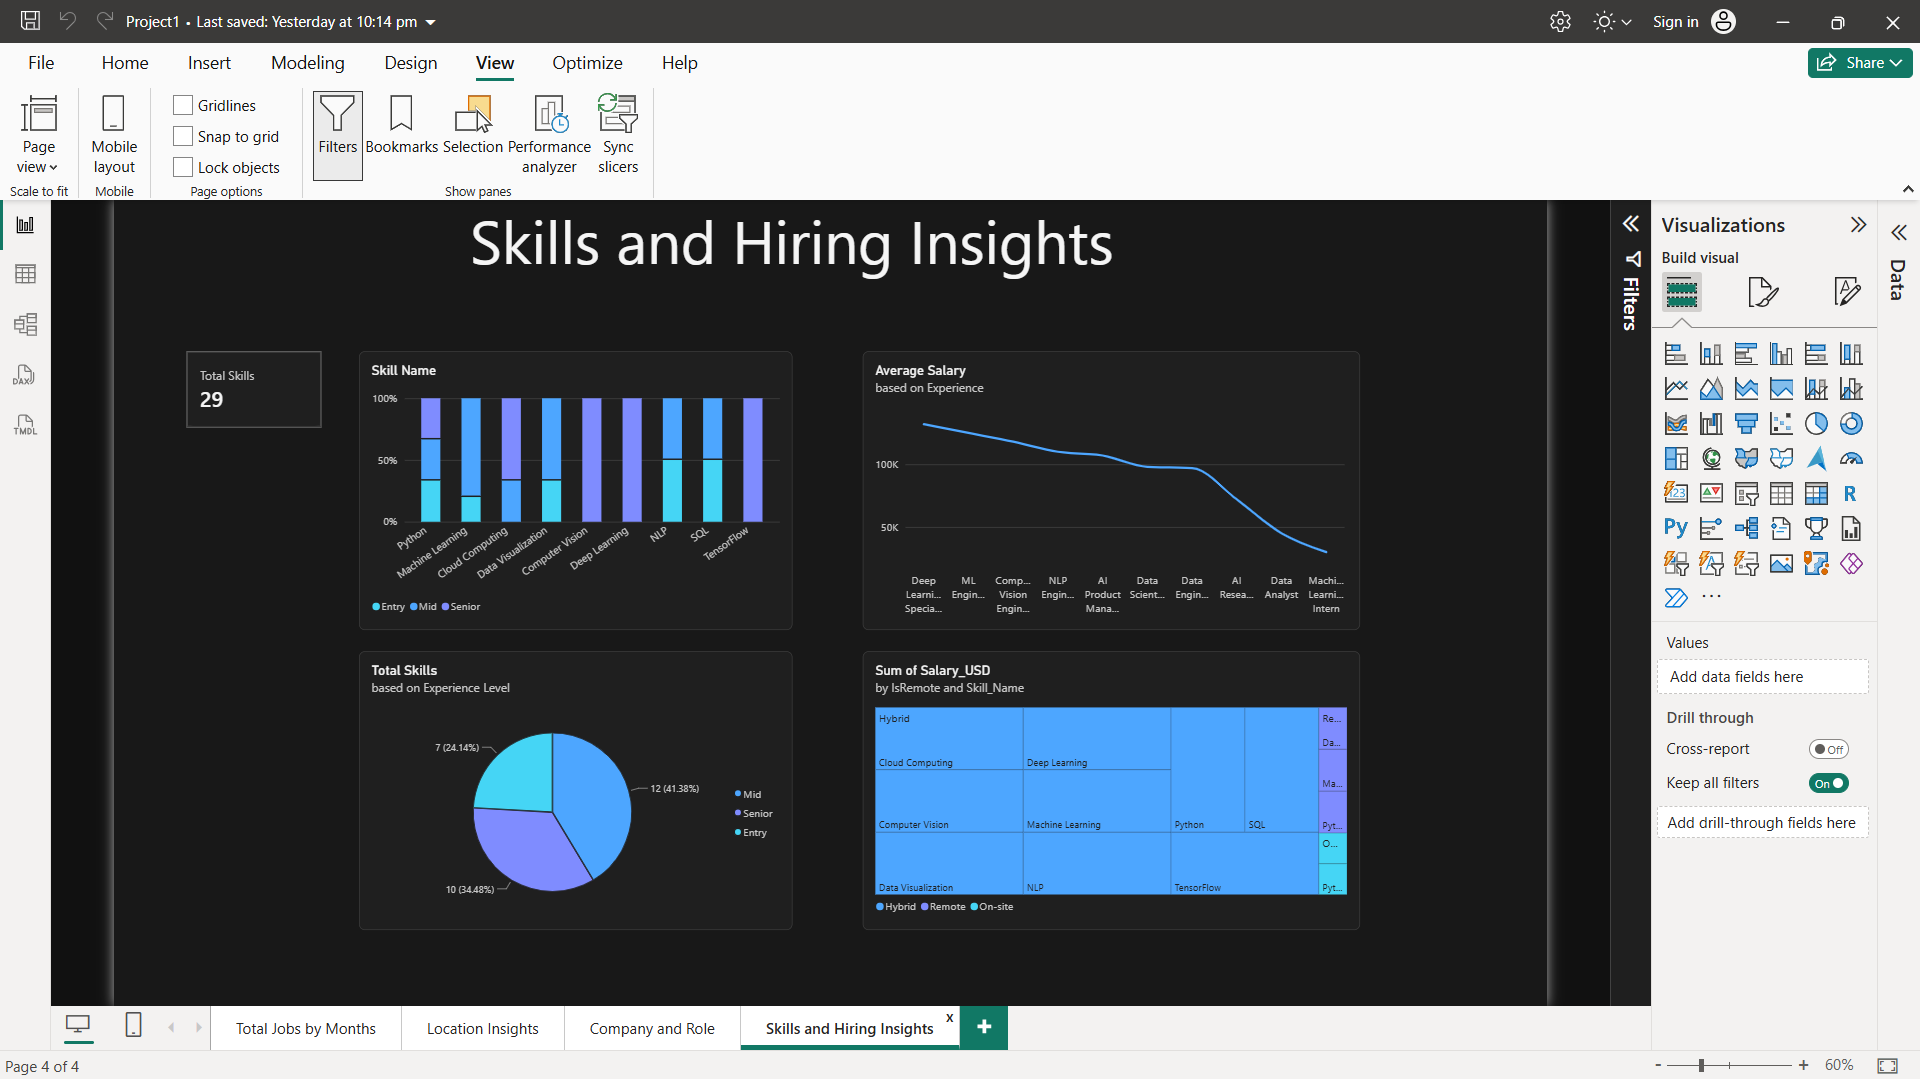

What the dashboard file says about the page in this screenshot:
{"tool":"powerbi","page":{"name":"Skills and Hiring Insights","canvas":[1920,1080],"ordinal":3},"visuals":[{"type":"textbox","box":[434.3,0,948.8,111.6],"z":0},{"type":"hundredPercentStackedColumnChart","title":"Skill Name","fields":{"Category":["Dim_Skills.Skill_Name"],"Series":["Fact_Jobs.Experience_Level"],"Y":["Dim_Skills.SkillUsageCount"]},"box":[327.9,202.3,580.8,373.3],"z":1000},{"type":"treemap","fields":{"Details":["Dim_Skills.Skill_Name"],"Group":["Fact_Jobs.IsRemote"],"Values":["Sum(Fact_Jobs.Salary_USD)"]},"box":[1002.9,605.2,666.3,373.3],"z":2000},{"type":"cardVisual","fields":{"Data":["Sum(Fact_Jobs.SkillsCount)"]},"box":[97.7,202.3,181.4,102.9],"z":3000},{"type":"lineChart","title":"Average Salary","fields":{"Category":["Fact_Jobs.Job_Title"],"Y":["Fact_Jobs.AvgSalaryByExperience"]},"box":[1002.9,202.3,666.3,373.3],"z":4000},{"type":"pieChart","title":"Total Skills","fields":{"Category":["Fact_Jobs.Experience_Level"],"Y":["Sum(Fact_Jobs.SkillsCount)"]},"box":[327.9,605.2,580.8,373.3],"z":5000}]}

Visuals, with their boxes on the page's 1920x1080 design canvas (x1, y1, x2, y2). These are canvas units, not pixel positions in the 1920x1079 screenshot, which may show the page scaled, cropped or inside an application window:
textbox: [x1=434, y1=0, x2=1383, y2=112]
"Skill Name" hundredPercentStackedColumnChart: [x1=328, y1=202, x2=909, y2=576]
treemap - Dim_Skills.Skill_Name x Fact_Jobs.IsRemote: [x1=1003, y1=605, x2=1669, y2=978]
cardVisual - Sum(Fact_Jobs.SkillsCount): [x1=98, y1=202, x2=279, y2=305]
"Average Salary" lineChart: [x1=1003, y1=202, x2=1669, y2=576]
"Total Skills" pieChart: [x1=328, y1=605, x2=909, y2=978]
